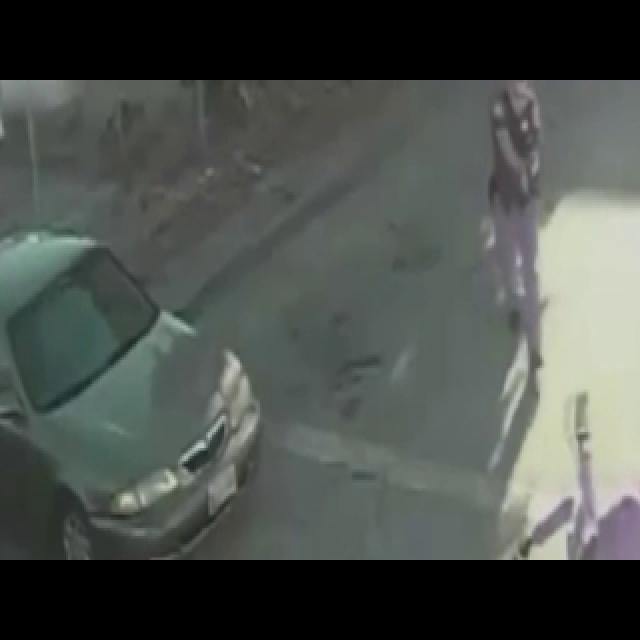shooting: (334, 4, 617, 426)
